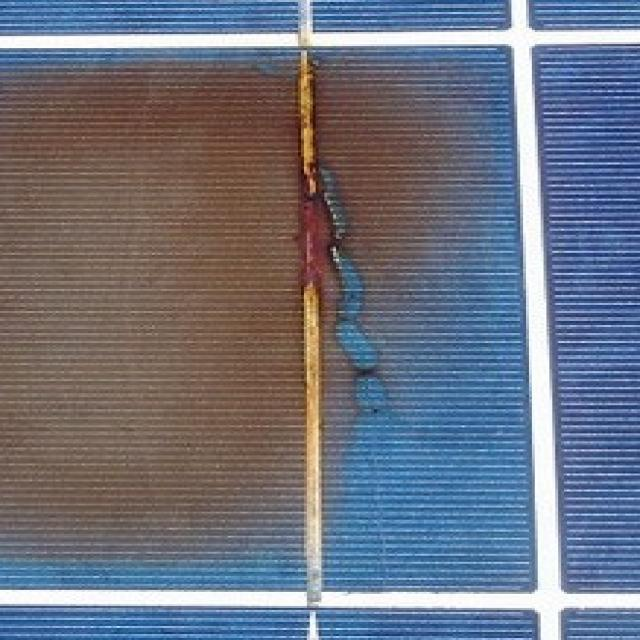faulty: (4, 46, 534, 574)
